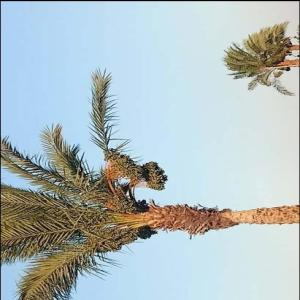palm tree: (0, 67, 299, 299), (221, 20, 299, 96)
